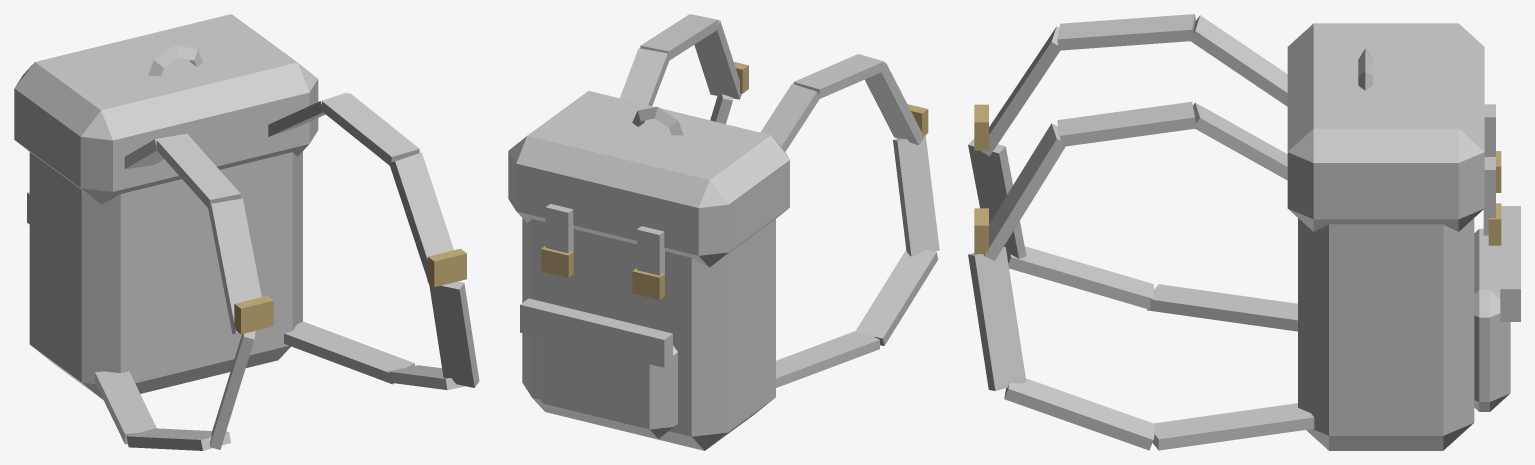
Rendered from acc_bag_v01.glb.
The picture shows the model from 3 angles, left to right: view 1: azimuth 30°, elevation 25°; view 2: azimuth 150°, elevation 25°; view 3: azimuth 270°, elevation 25°; orthographic projection. The views are drawn at different scales.
Visible parts, largest first — view 1: acc_bag; view 2: acc_bag; view 3: acc_bag.
Part boxes in pixels (x1,y1,x2,y2): acc_bag: (14, 14, 479, 450); acc_bag: (508, 14, 939, 450); acc_bag: (968, 14, 1520, 450).
Bounding box in the file's own units: 0.3562 × 0.378 × 0.5332.
